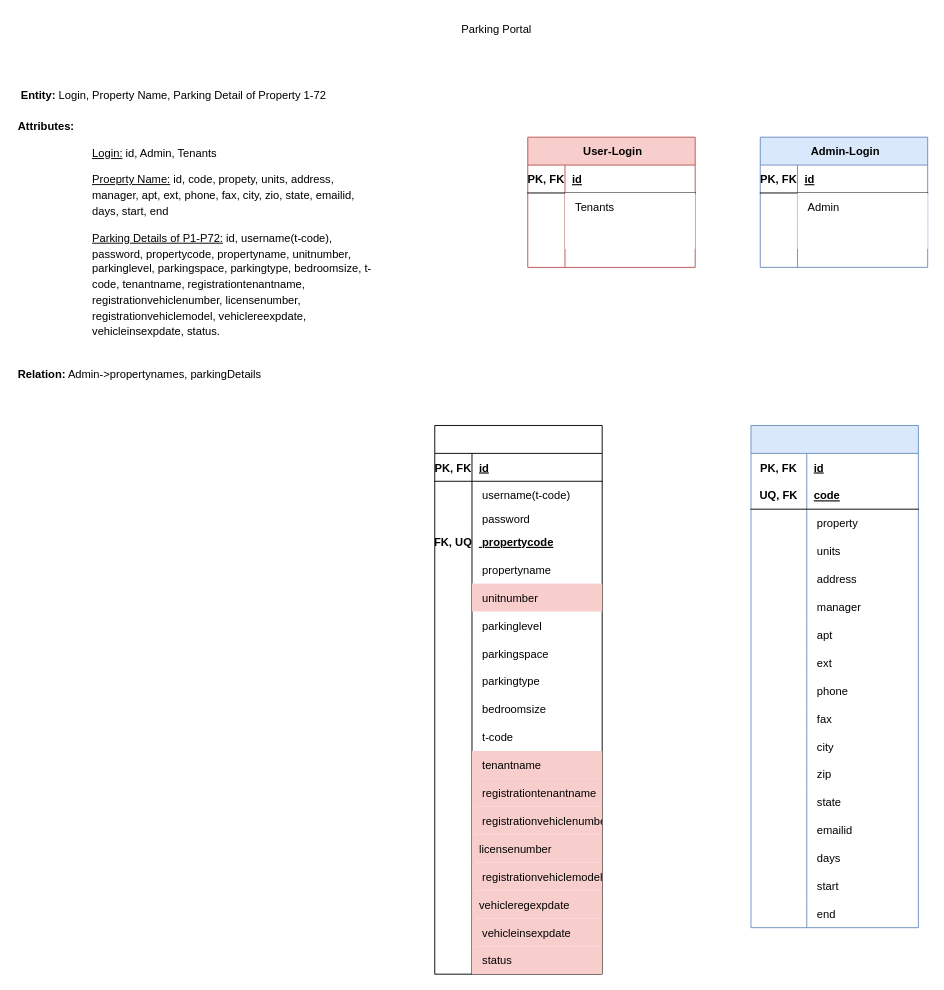
The diagram is 944 pixels wide and 990 high, and some of its shapes have lost their labels. Here are the shapes that lost their labels. From the top down, the box of each, then its label:
(750, 425, 918, 928): Property Names
(434, 425, 602, 974): Parking details of Property 1-72
